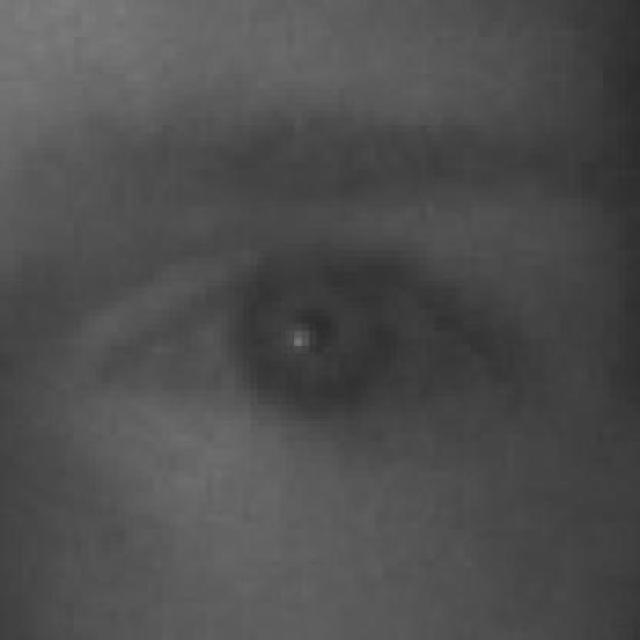awake: (81, 238, 508, 418)
